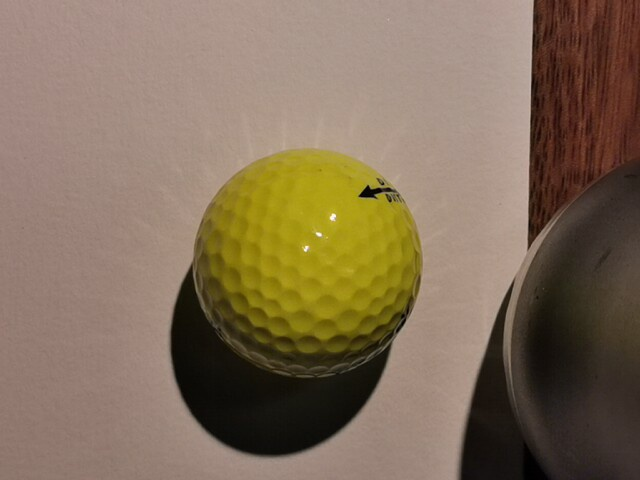Ball: (192, 148, 423, 379)
